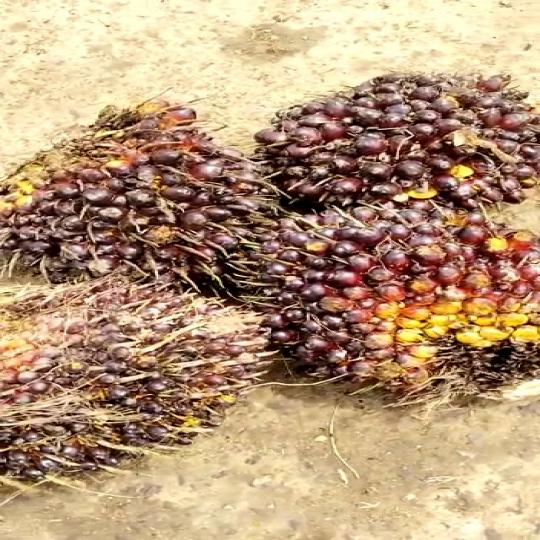kurang masak: (246, 195, 540, 414), (0, 290, 267, 502), (0, 89, 275, 288), (246, 60, 540, 225)
